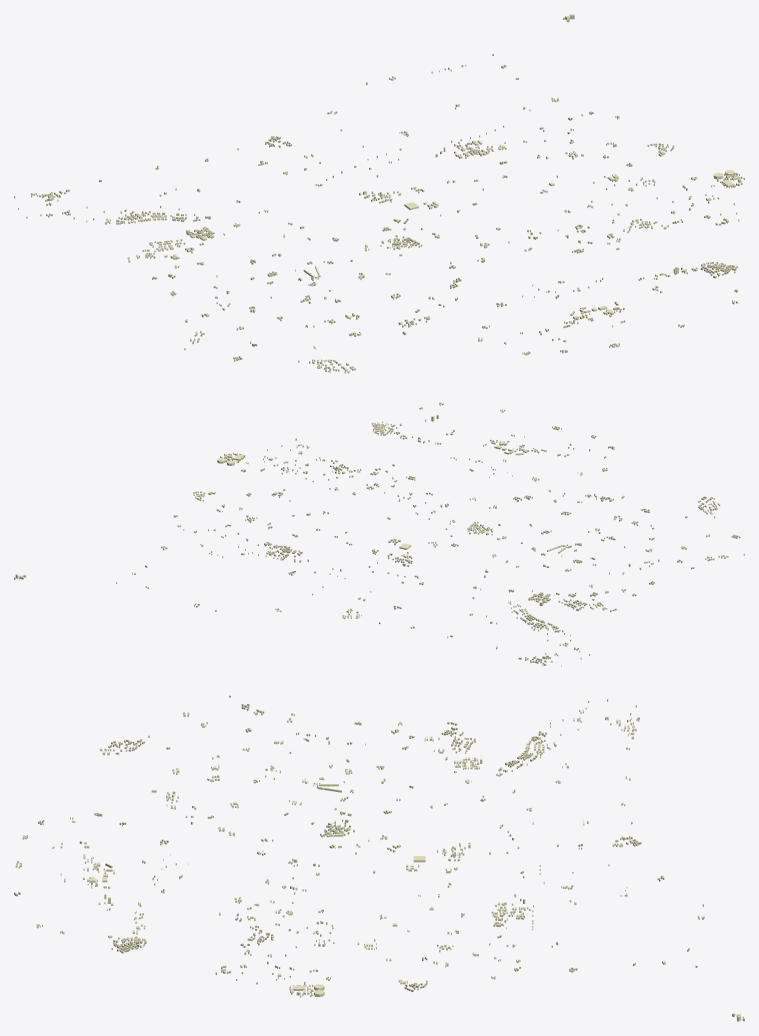
File: erangel_buildings.glb
3 renders of one model, top to bottom at view 1: azimuth 30°, elevation 25°; view 2: azimuth 150°, elevation 25°; view 3: azimuth 270°, elevation 25°, orthographic. The views are drawn at different scales.
Parts seen in each view (by area): view 1: ErangelBuildingsMesh; view 2: ErangelBuildingsMesh; view 3: ErangelBuildingsMesh.
Boxes of the visible parts, x1,y1,x2,y2 form: ErangelBuildingsMesh: (14,14,744,373); ErangelBuildingsMesh: (14,402,744,666); ErangelBuildingsMesh: (14,695,744,1021).
Bounding box in the file's own units: 724 × 37.63 × 694.
